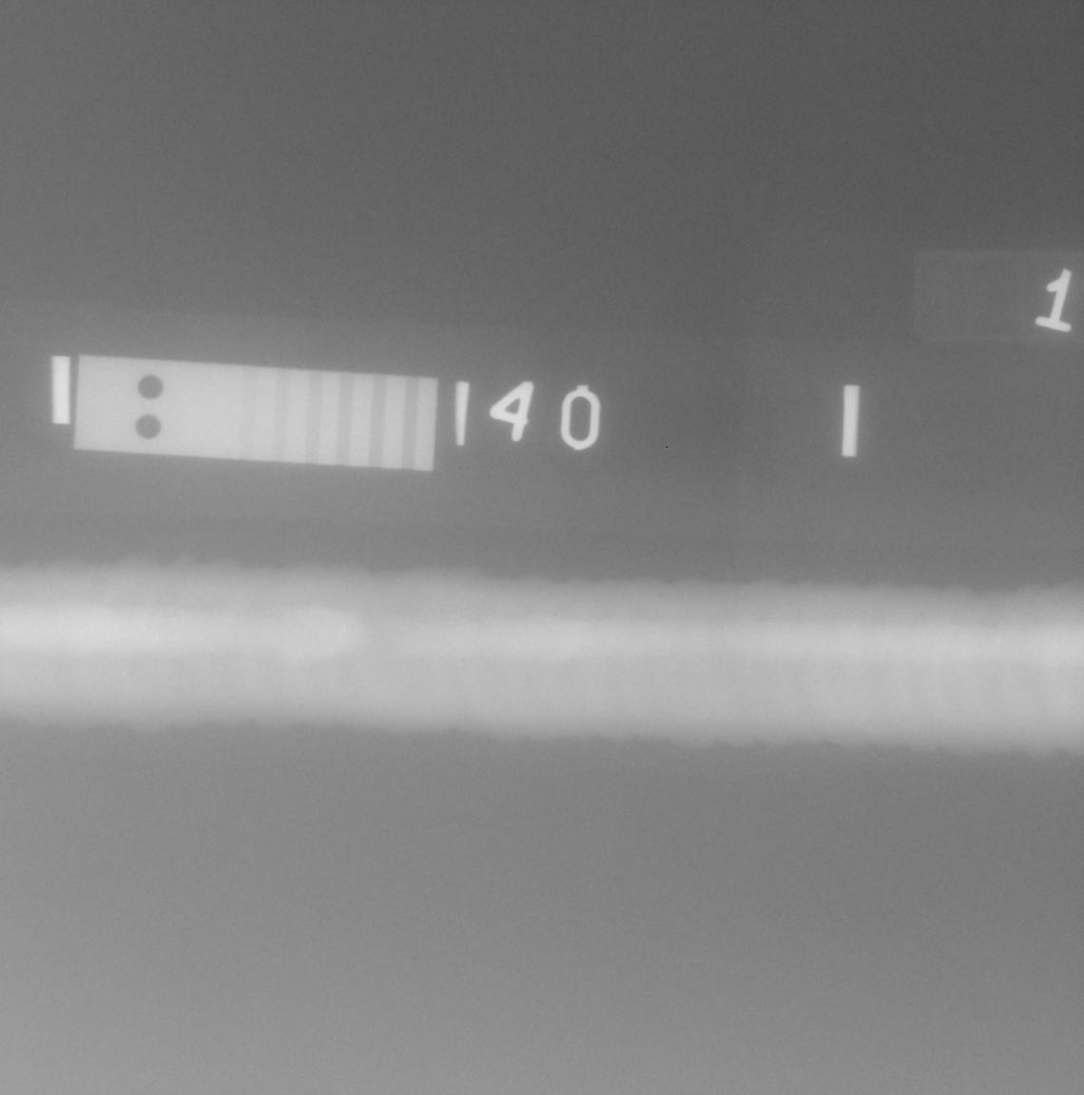Reference Standard 2: (73, 354, 438, 473)
